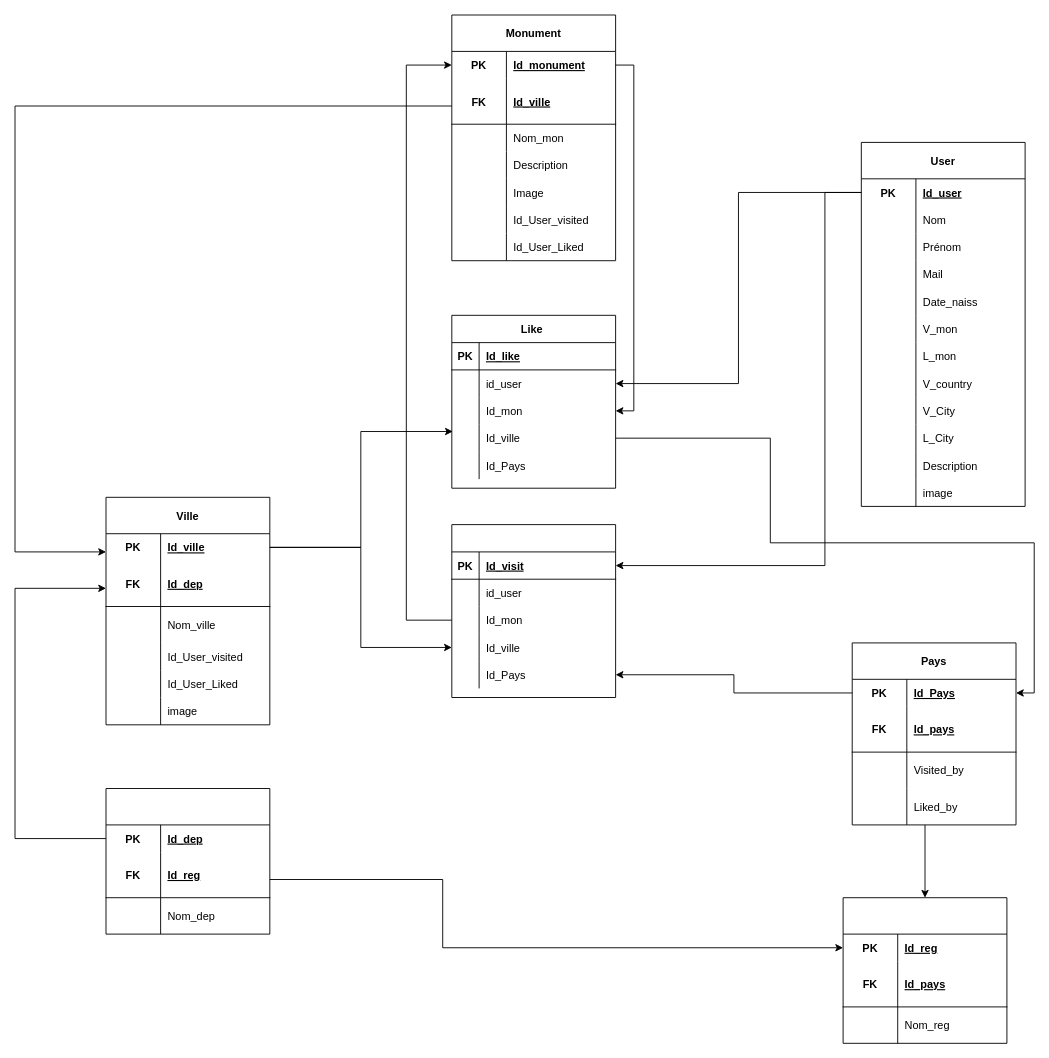
Some shapes in this 1049 by 1058 pixel diagram are drawn without their labels. The box of each missing label's shape, as (x1, y1, x2, y2) in pixels:
Departement: (105, 788, 270, 934)
Région: (842, 897, 1007, 1043)
Visite: (451, 524, 616, 698)
